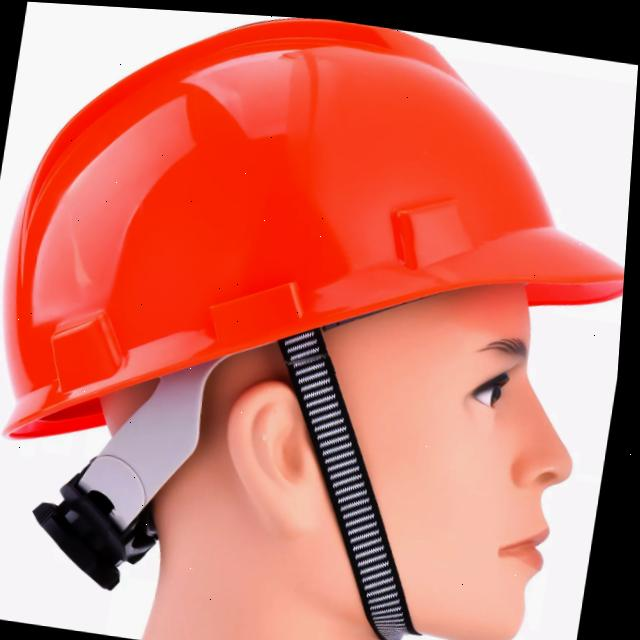helmet: (0, 0, 640, 468)
